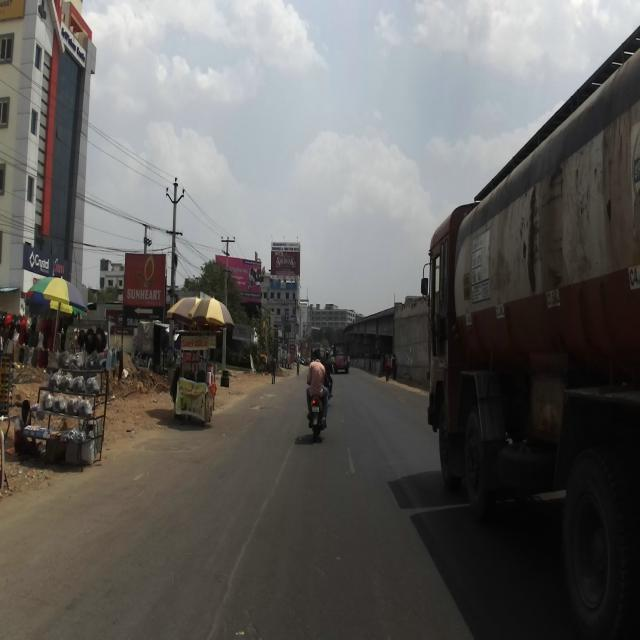truck: (420, 27, 640, 638)
